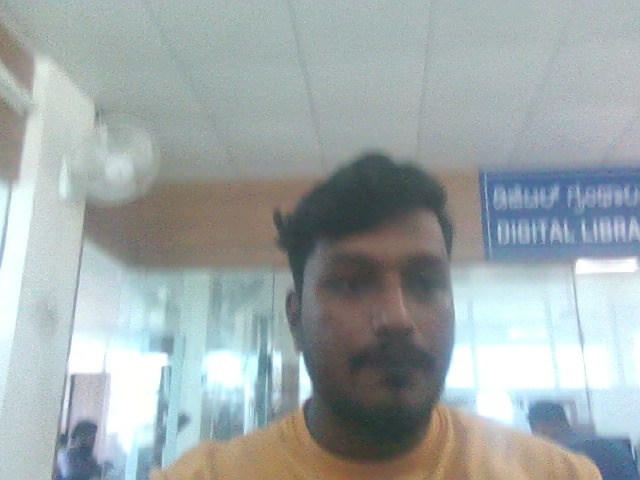real: (265, 131, 484, 442)
